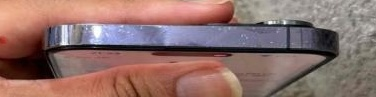scratch: (64, 18, 180, 53), (215, 37, 351, 57), (217, 19, 303, 41)
